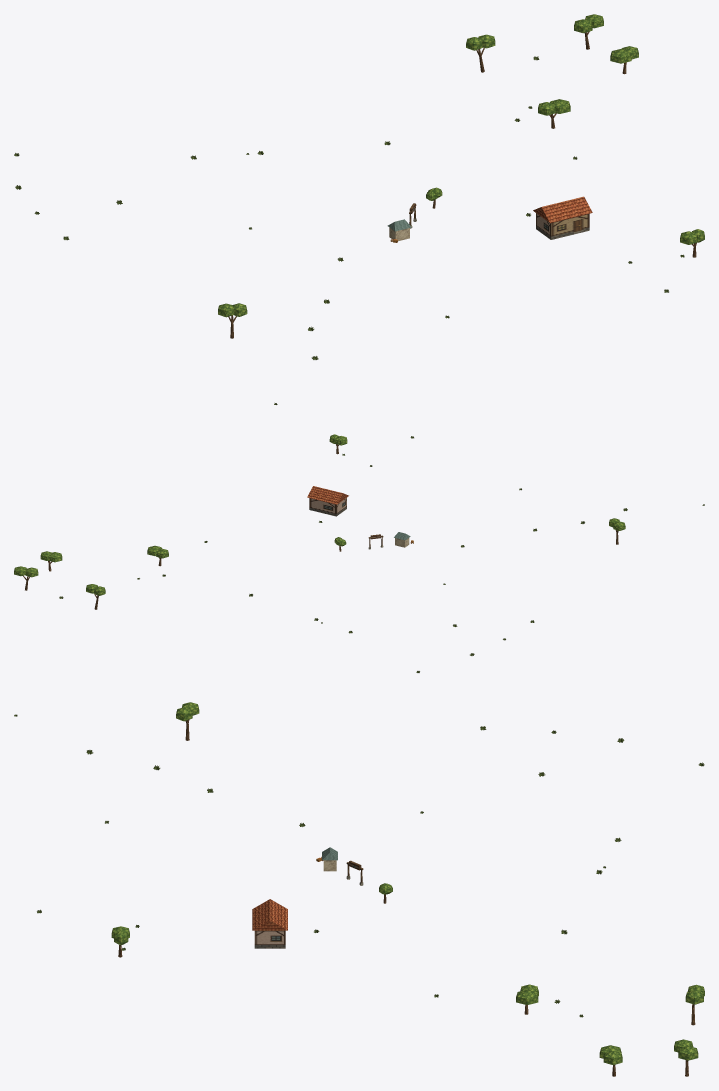
The model's file is FieldCell_2_2.fbx.
3 views of the same model, one above another, from view 1: azimuth 30°, elevation 25°; view 2: azimuth 150°, elevation 25°; view 3: azimuth 270°, elevation 25° (orthographic). The views are drawn at different scales.
Visible parts, largest first — view 1: FieldCell_2_2; view 2: FieldCell_2_2; view 3: FieldCell_2_2.
Boxes of the visible parts, box(x1,y1,x2,y2) form: FieldCell_2_2: box(218, 14, 704, 338); FieldCell_2_2: box(14, 434, 625, 609); FieldCell_2_2: box(111, 702, 704, 1076).
Size of the model in its own units: 15644 by 1553 by 13833.
